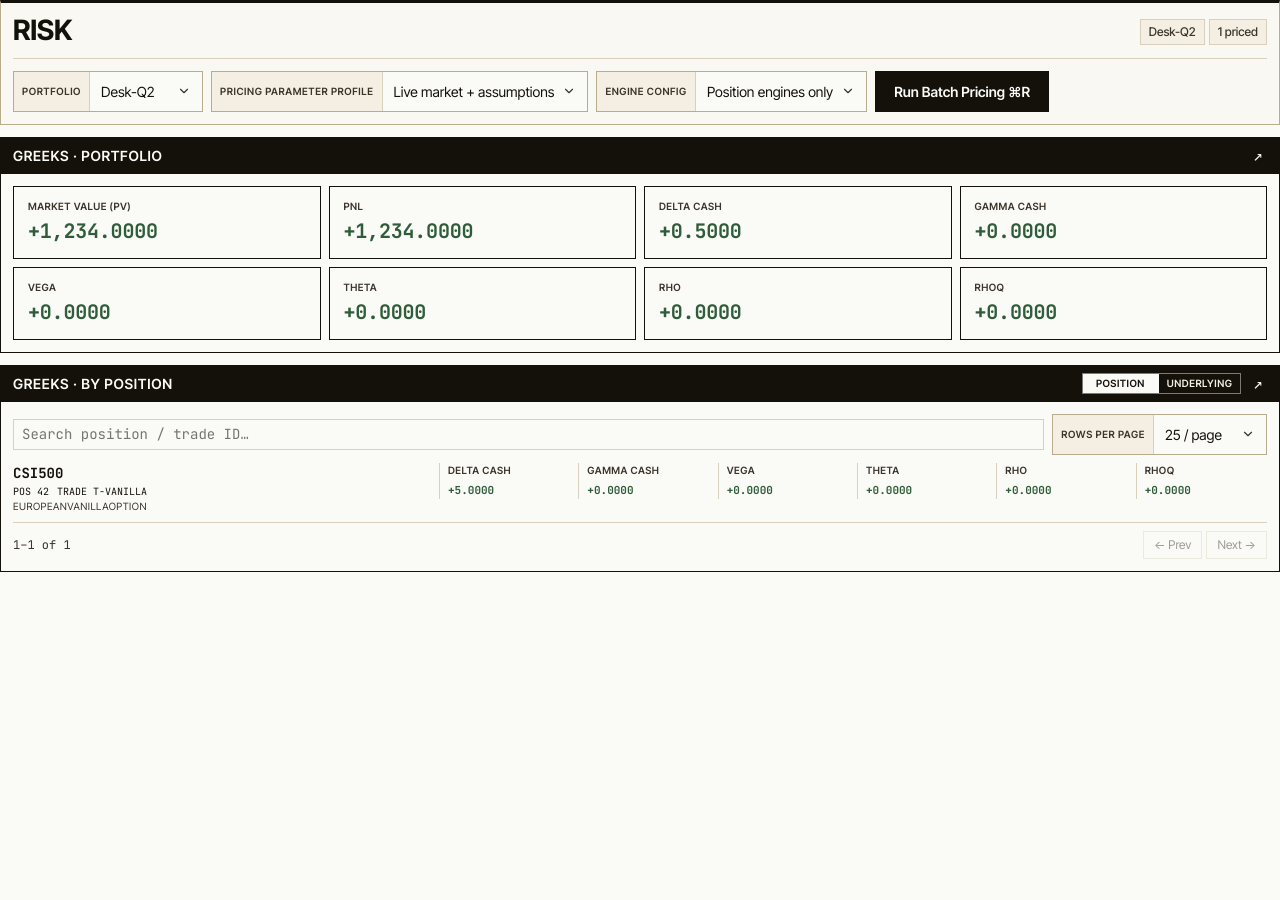
Scenario: RiskLive › only creates a risk run after the manual Run Batch Pricing action
Check: the text "1 priced" is shown, box [1218,23,1258,41]
Click the button "Run Batch Pricing ⌘R".
click(962, 91)  # box [875,71,1049,112]
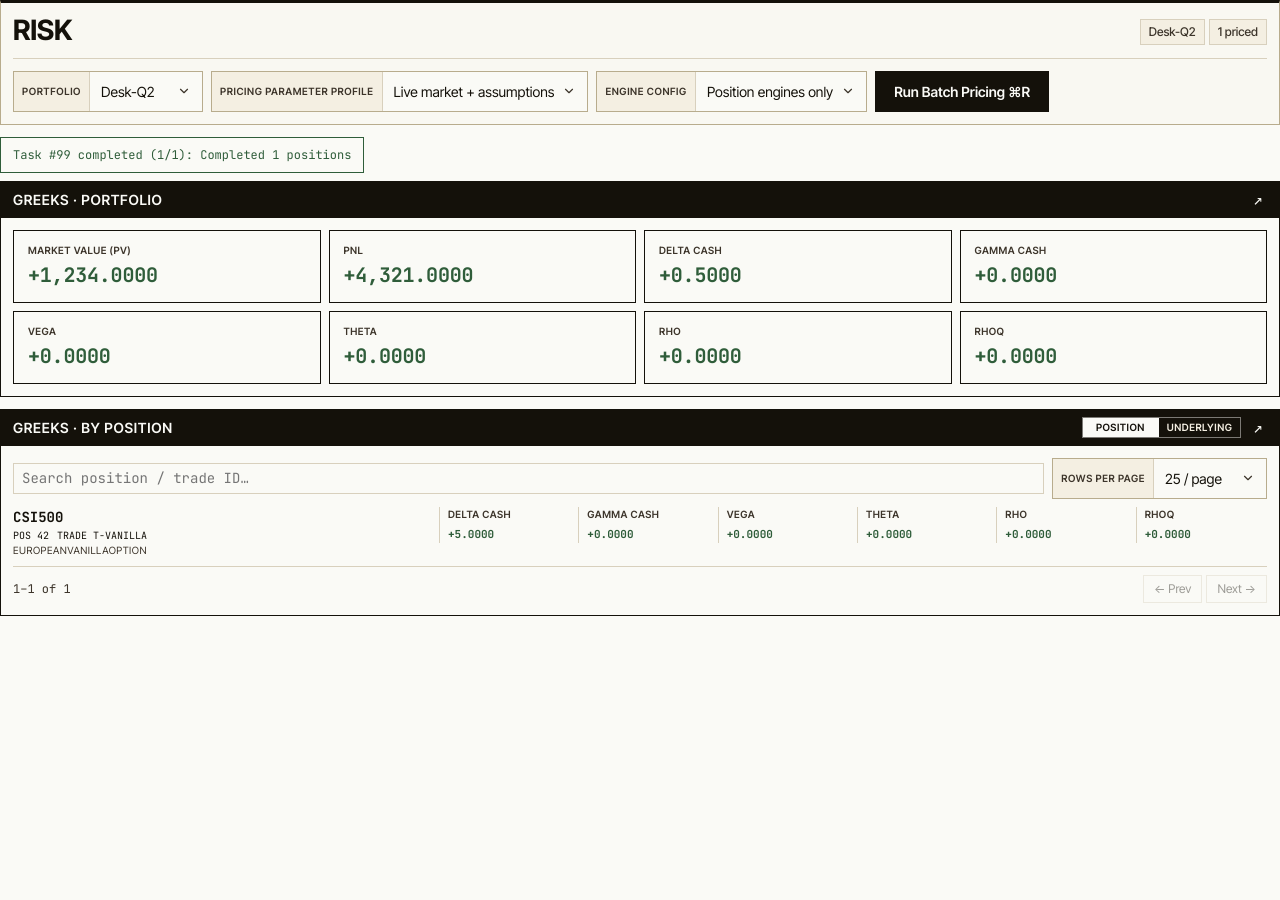
Check: the text "Task #99 completed (1/1): Completed 1 positions" is shown, box [0,137,364,173]
